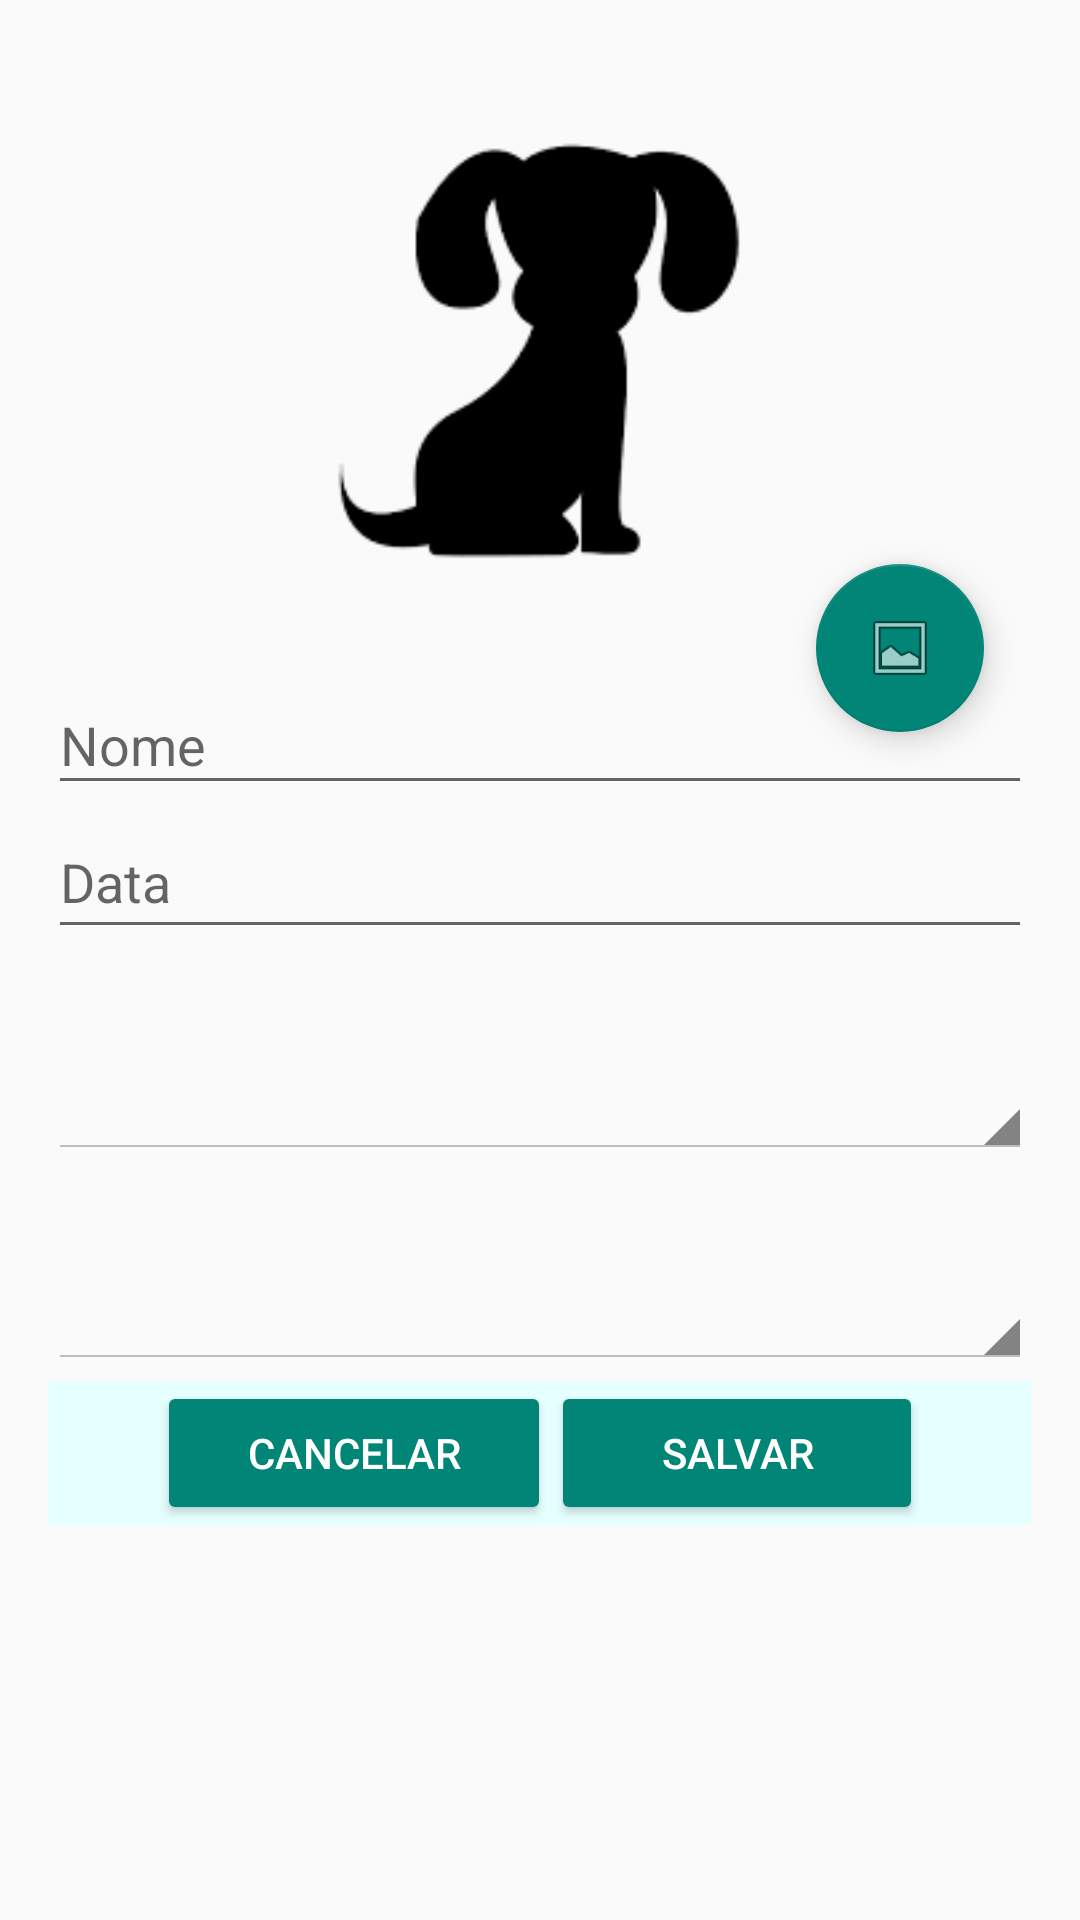

Icons on this 1080w x 1920h Android screen, each with its box as [x1=x1, y1=y1, x2=x2, y2=y2]:
gallery: [x1=816, y1=564, x2=984, y2=732]
